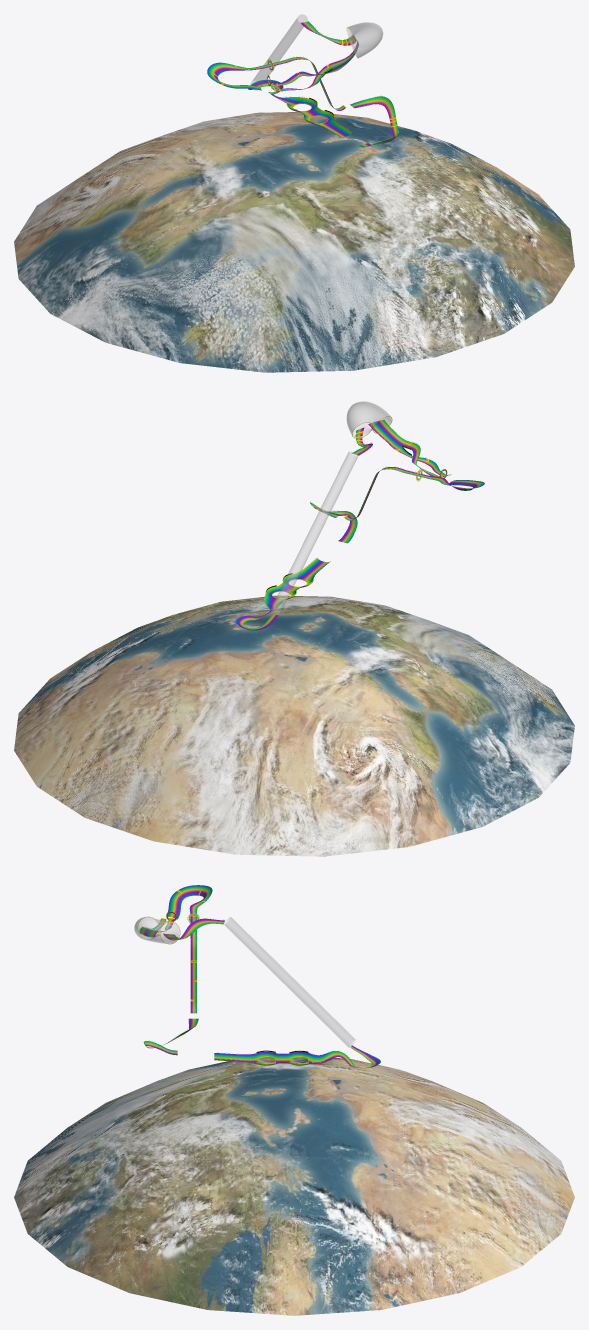
The model's file is Track final.fbx.
3 renders of one model, top to bottom at view 1: azimuth 30°, elevation 25°; view 2: azimuth 150°, elevation 25°; view 3: azimuth 270°, elevation 25°, orthographic.
Parts seen in each view (by area): view 1: Earth, Track, pipe_b, Pipe; view 2: Earth, Track, Pipe, pipe_b; view 3: Earth, Track, Pipe, pipe_b.
Boxes of the visible parts, left/top/right/bottom form: Earth: left=14, top=112, right=574, bottom=372; Track: left=207, top=21, right=398, bottom=147; pipe_b: left=346, top=22, right=382, bottom=58; Pipe: left=250, top=14, right=307, bottom=90; Earth: left=14, top=595, right=574, bottom=856; Track: left=236, top=419, right=484, bottom=630; Pipe: left=270, top=451, right=357, bottom=614; pipe_b: left=347, top=401, right=392, bottom=438; Earth: left=14, top=1057, right=574, bottom=1315; Track: left=140, top=885, right=380, bottom=1068; Pipe: left=224, top=917, right=355, bottom=1047; pipe_b: left=134, top=916, right=180, bottom=944.
Size of the model in its own units: 143 by 78.6 by 143.
